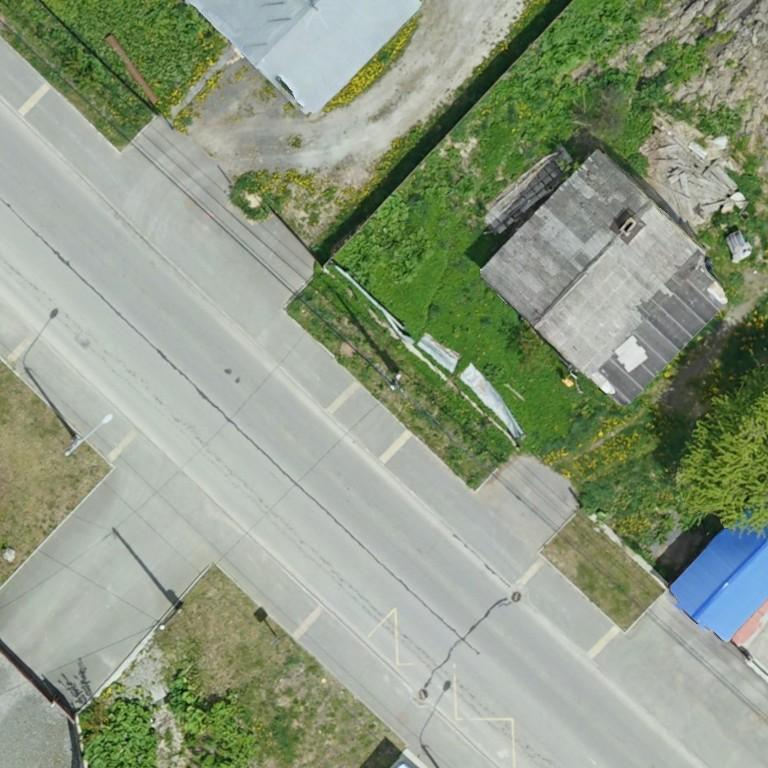hogweed: (40, 0, 221, 96), (334, 191, 428, 292), (537, 6, 634, 71)
